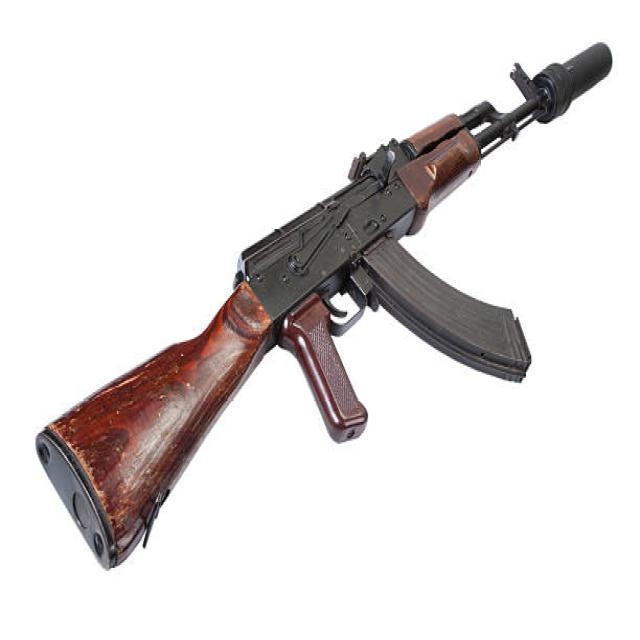rifle: (23, 35, 622, 588)
